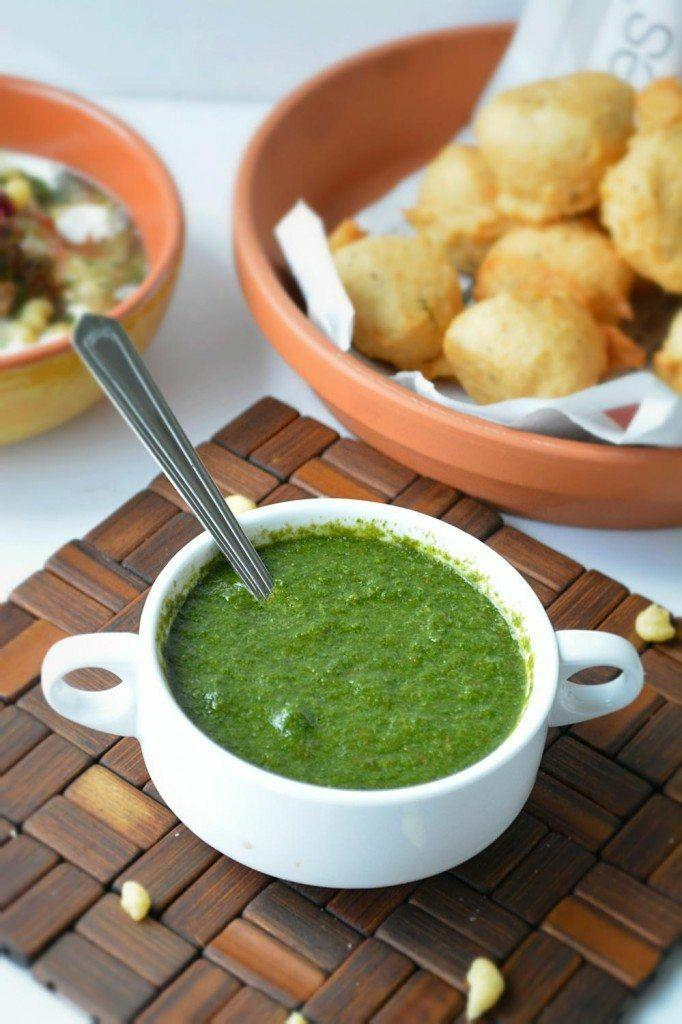GreenChutney: (167, 528, 520, 788)
